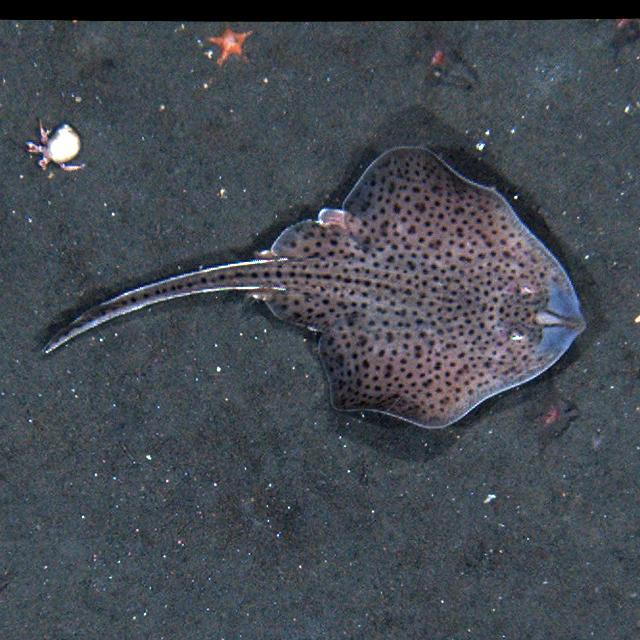skate: (28, 144, 590, 433)
